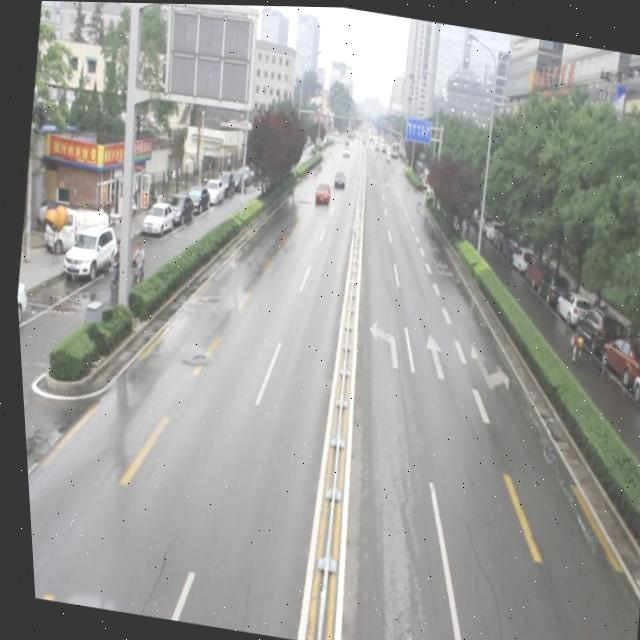car: (311, 177, 331, 202), (328, 168, 345, 188)
